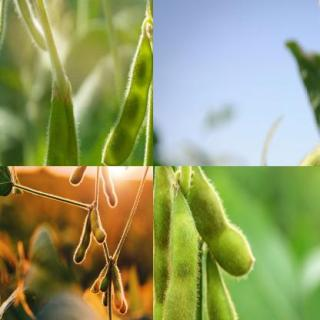soya: (191, 166, 256, 275), (101, 40, 152, 166), (153, 198, 198, 319), (206, 253, 258, 319), (22, 98, 68, 166), (153, 166, 172, 319), (61, 102, 99, 166), (296, 88, 319, 165), (73, 212, 91, 265), (101, 166, 117, 207), (90, 208, 106, 244), (110, 264, 122, 309), (68, 167, 88, 187), (100, 266, 112, 292), (119, 300, 130, 314), (90, 277, 99, 294), (103, 294, 107, 308)
